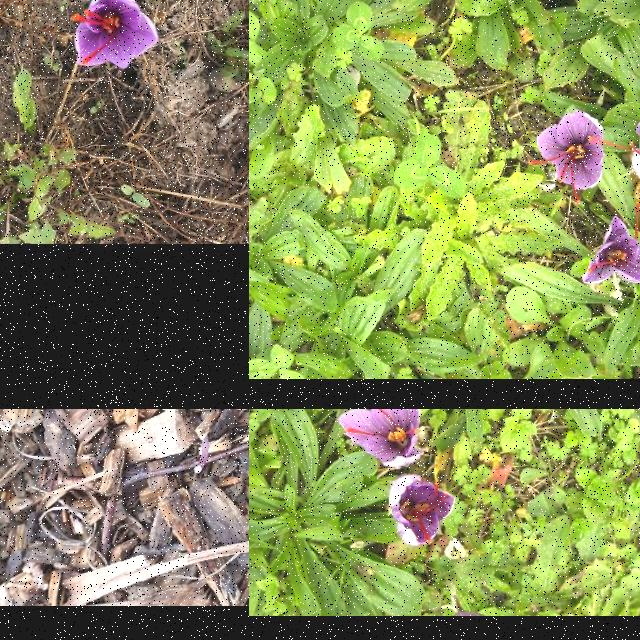flower: (527, 111, 607, 207), (70, 0, 160, 69), (587, 110, 640, 227), (337, 409, 424, 468), (387, 476, 457, 546), (583, 200, 640, 285)
